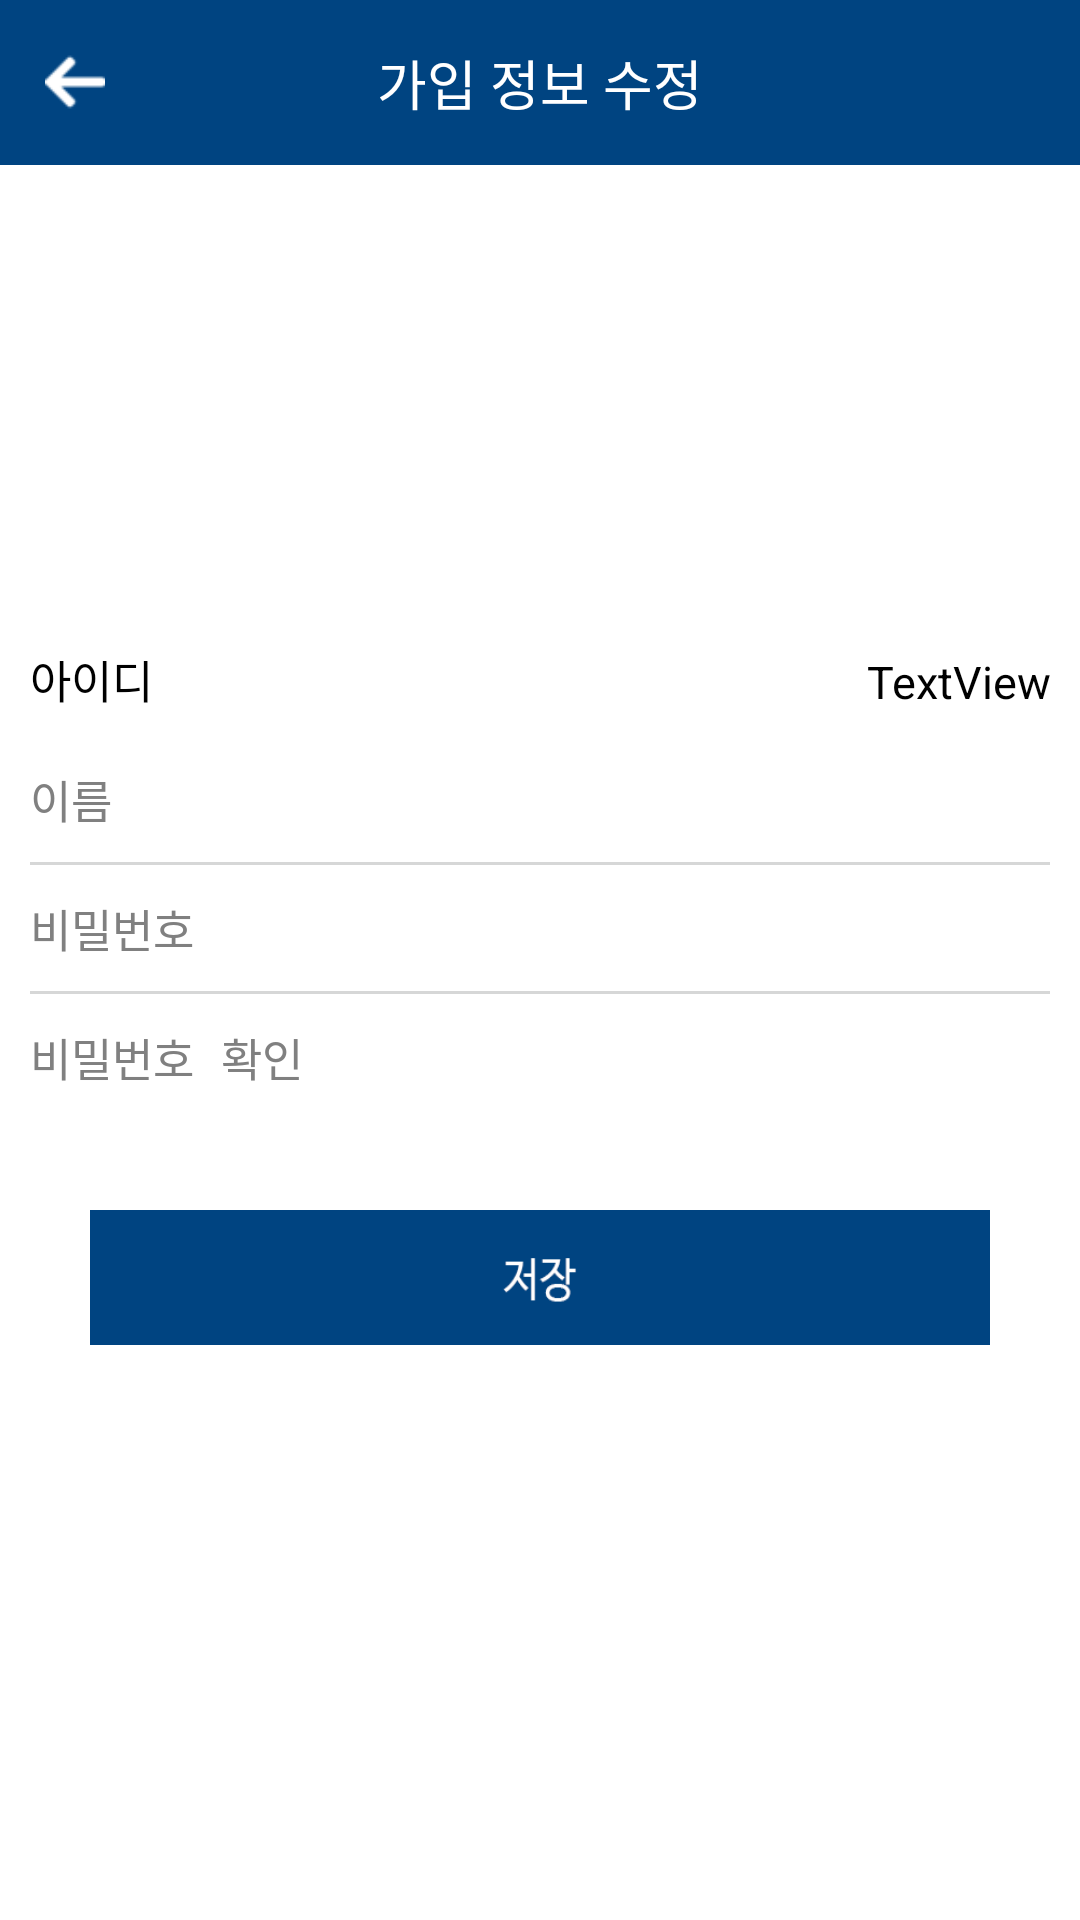

Named icons in this screenshot (1080×1920) and their bounding boxes, (x1, y1, x2, y2):
back: (45, 56, 105, 108)
